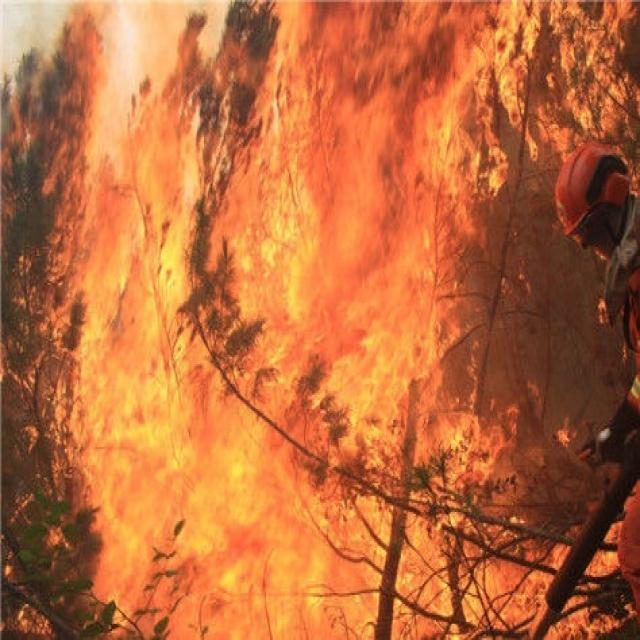fire: (45, 3, 633, 634)
